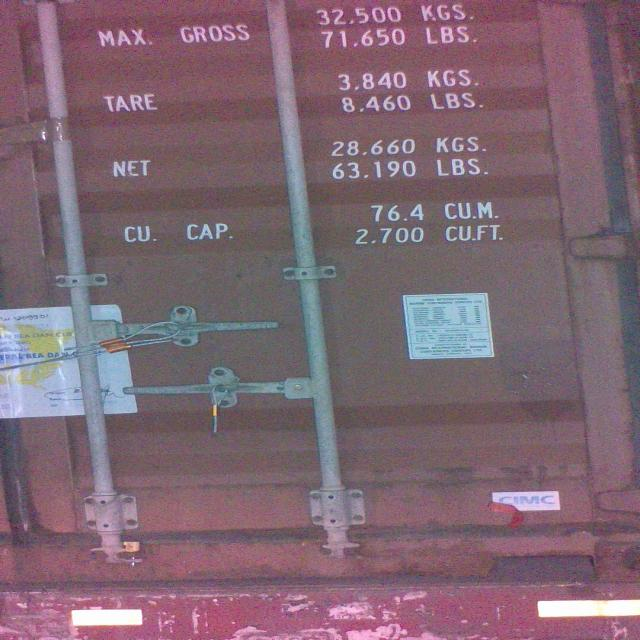seal: (122, 318, 229, 358), (198, 382, 235, 435), (120, 540, 146, 568)
